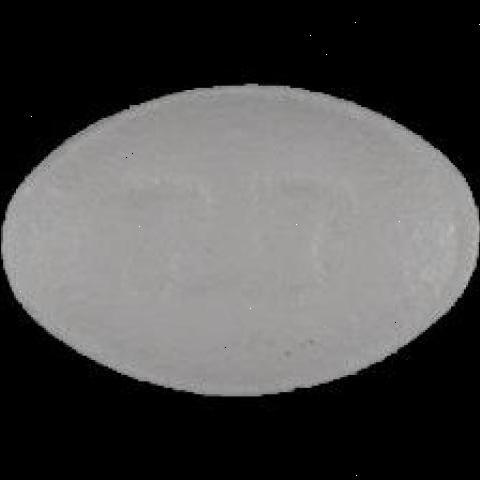Pill: (0, 33, 478, 434)
